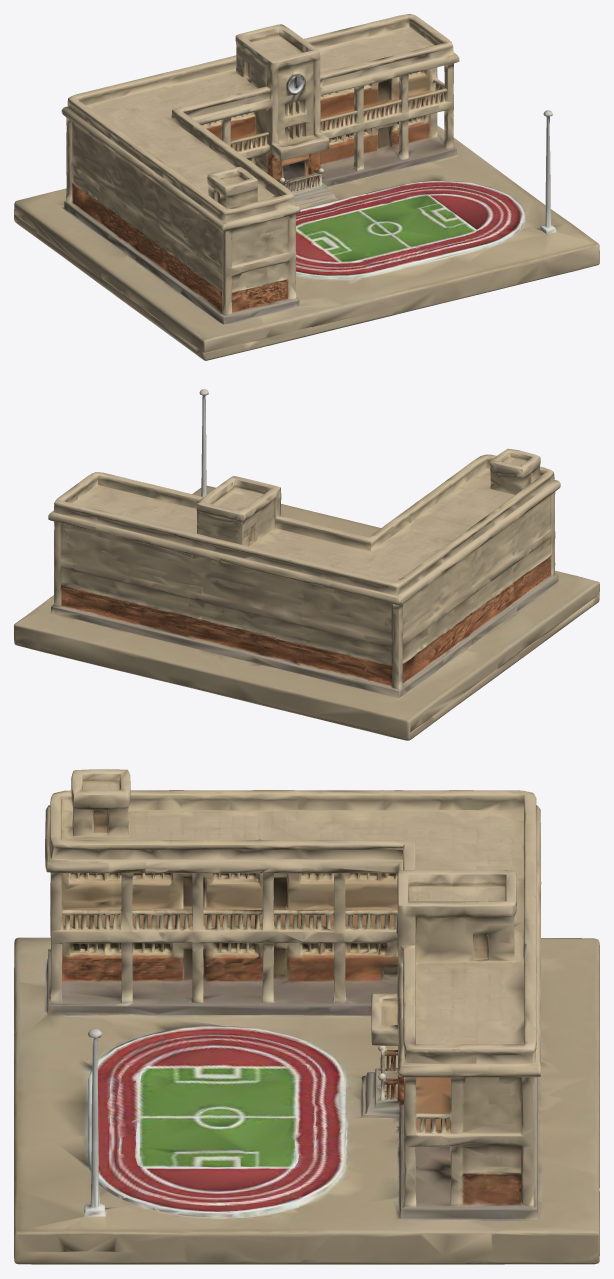
Rendered from school.glb.
3 renders of one model, top to bottom at view 1: azimuth 30°, elevation 25°; view 2: azimuth 150°, elevation 25°; view 3: azimuth 270°, elevation 25°, orthographic. The views are drawn at different scales.
Visible parts, largest first — view 1: tripo_node_60d50f66-8a22-4145-a886-e0f8c88fbc59; view 2: tripo_node_60d50f66-8a22-4145-a886-e0f8c88fbc59; view 3: tripo_node_60d50f66-8a22-4145-a886-e0f8c88fbc59.
Boxes of the visible parts, x1,y1,x2,y2 form: tripo_node_60d50f66-8a22-4145-a886-e0f8c88fbc59: (14, 14, 599, 360); tripo_node_60d50f66-8a22-4145-a886-e0f8c88fbc59: (14, 389, 599, 740); tripo_node_60d50f66-8a22-4145-a886-e0f8c88fbc59: (14, 769, 599, 1264).
Bounding box in the file's own units: 0.42 × 0.1627 × 0.3512.
Materials: 1 (1 with a texture image).
